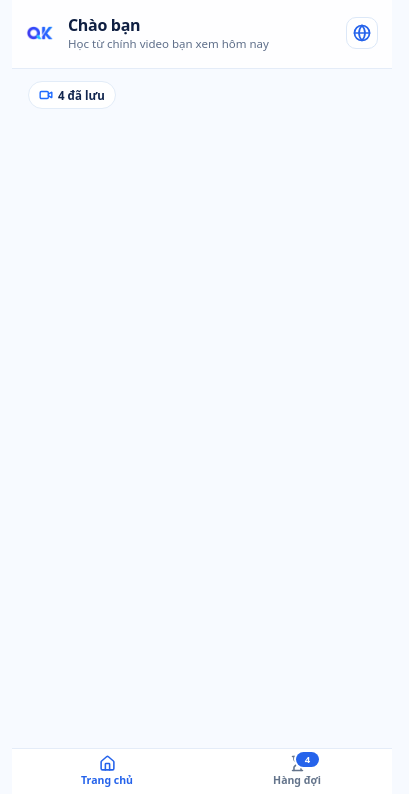
Scenario: App — popup lưu trang hiện tại + hàng đợi › (q) chip lọc đếm đúng + bấm Lỗi chỉ còn card failed + subtitle số video
Click the button with test id "tab-queue" at (297, 772), box [202,749,392,793]
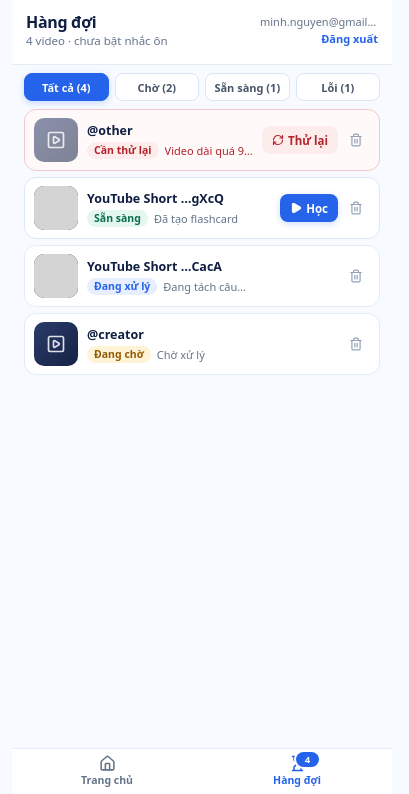
Check: the text "4 video · chưa bật nhắc ôn" is shown, box [26,33,168,48]
Check: the button with test id "filter-all" shows "4", box [24,73,108,101]
Check: the button with test id "filter-waiting" shows "2", box [114,73,199,101]
Click the button with test id "filter-failed" at (338, 87), box [296,73,380,101]
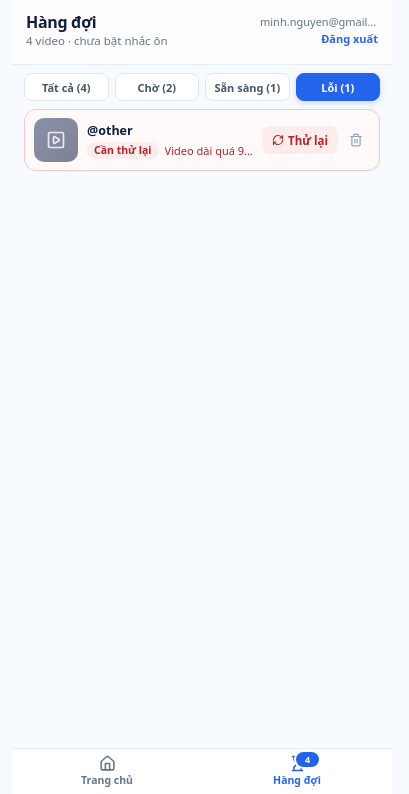
Check: the text "@other" is shown, box [87,122,133,138]
Check: the text "@creator" is gone
